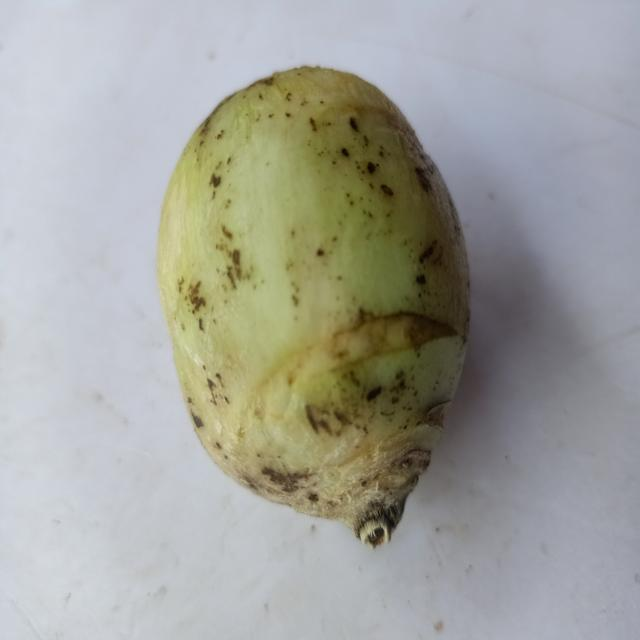Turnip: (134, 40, 527, 581)
